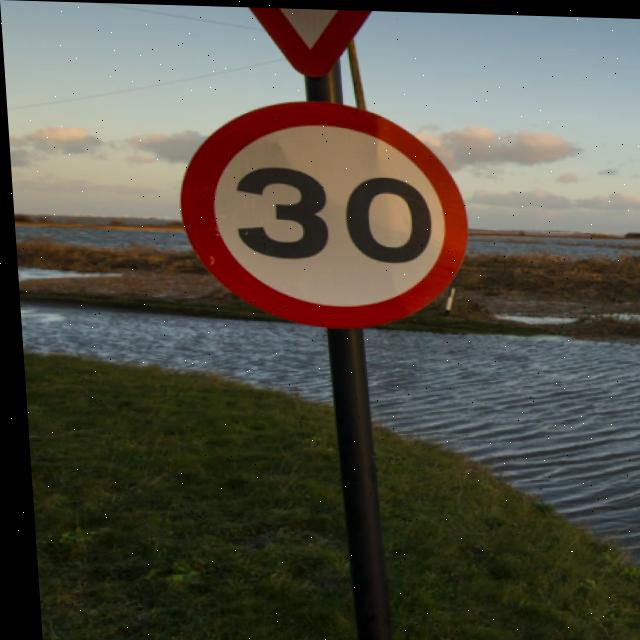Speed limit 30: (169, 94, 473, 331)
